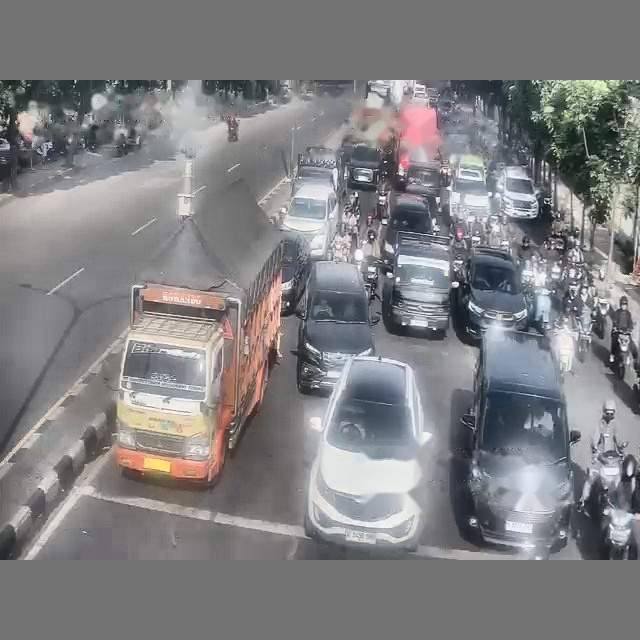Mobil: (461, 330, 580, 552), (304, 357, 430, 550), (296, 261, 379, 393), (382, 233, 451, 336), (457, 246, 527, 336), (280, 183, 338, 259), (379, 192, 438, 266), (291, 146, 345, 196), (281, 231, 309, 314), (496, 166, 538, 219), (447, 176, 490, 218), (404, 157, 441, 204), (346, 143, 382, 189), (455, 155, 485, 183), (369, 80, 390, 96), (412, 84, 428, 105), (426, 87, 438, 106)
Motor: (602, 500, 634, 559), (552, 325, 575, 372), (611, 330, 632, 379), (577, 307, 592, 362), (594, 296, 609, 338), (227, 119, 238, 141)
Truk: (115, 180, 282, 485)
